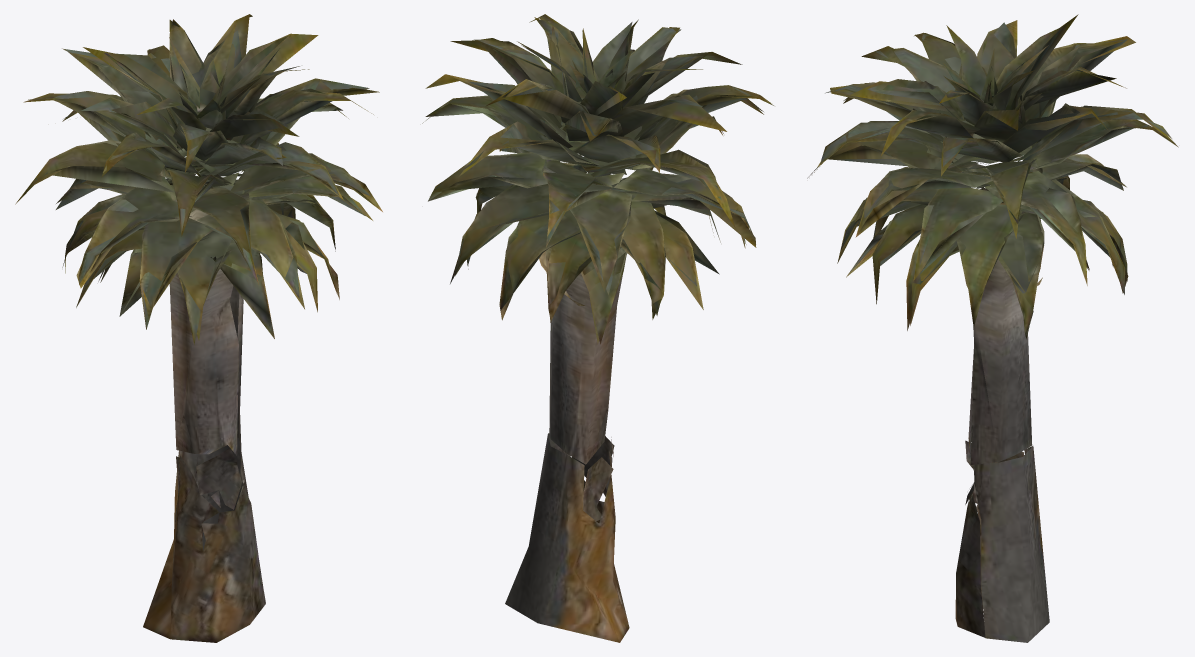
The model's file is quiver_tree_02.glb.
3 views of the same model, side by side, from view 1: azimuth 30°, elevation 25°; view 2: azimuth 150°, elevation 25°; view 3: azimuth 270°, elevation 25° (orthographic).
Visible parts, largest first — view 1: quiver_tree_02; view 2: quiver_tree_02; view 3: quiver_tree_02.
Part boxes in pixels (bbox=[...]): quiver_tree_02: bbox=[15, 14, 382, 642]; quiver_tree_02: bbox=[422, 14, 773, 642]; quiver_tree_02: bbox=[807, 14, 1178, 642].
Size of the model in its own units: 0.8627 by 1.46 by 0.8611.
Materials: 1 (1 with a texture image).
